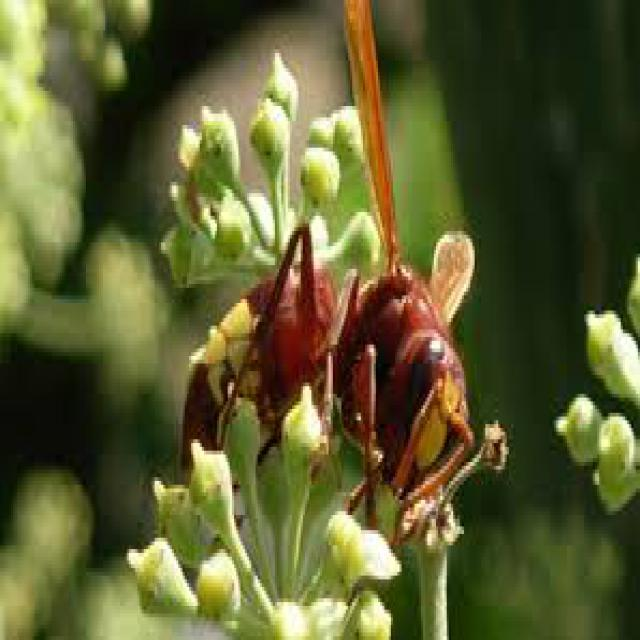Vespa Orientalis: (113, 0, 524, 605)
